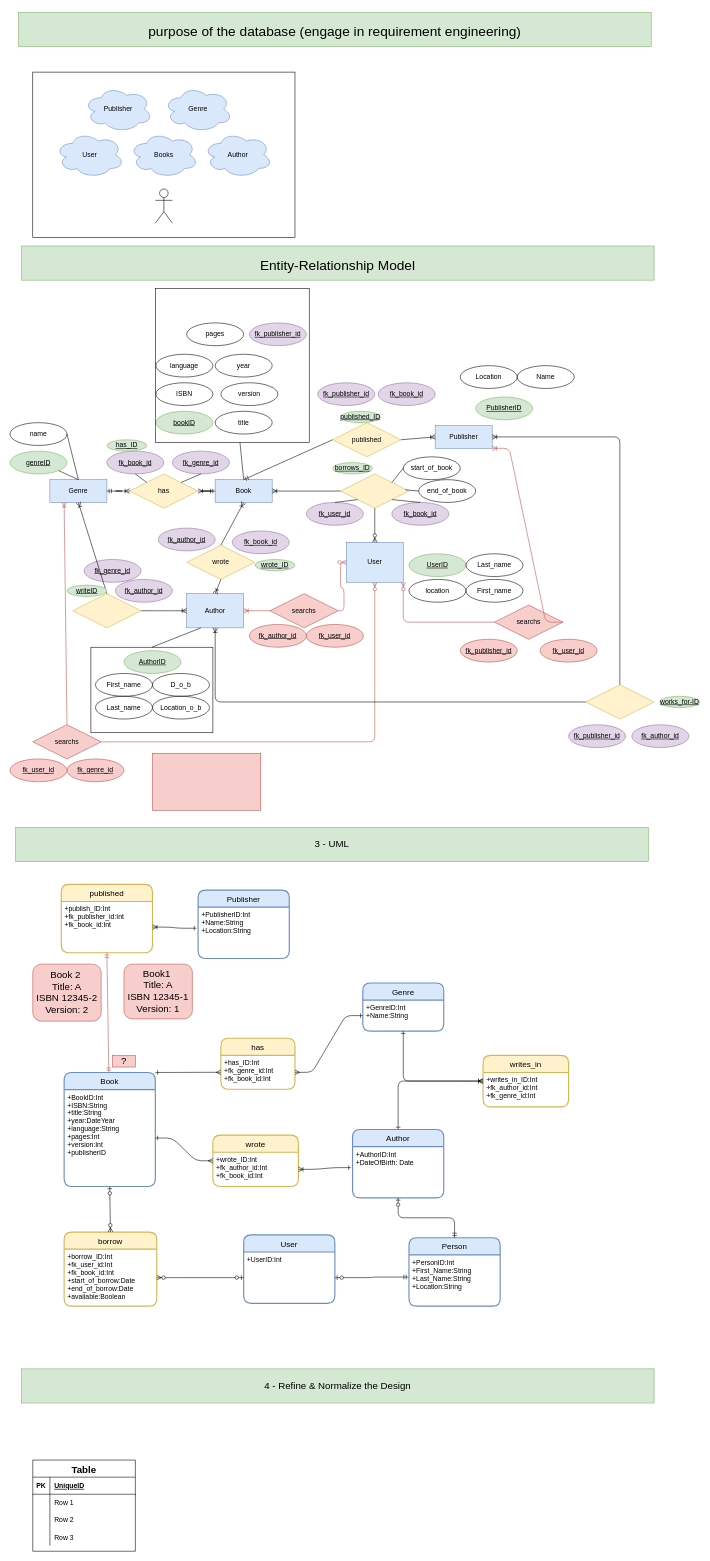
Image size: 710x1561. Some labels were removed from this diagram. Each missing label, with the centre of its shape:
Actor: [163,205]
borrows: [374,490]
not a relationship - its solved by a querry or php later on: [206,781]
works for: [619,701]
writes: [106,610]
